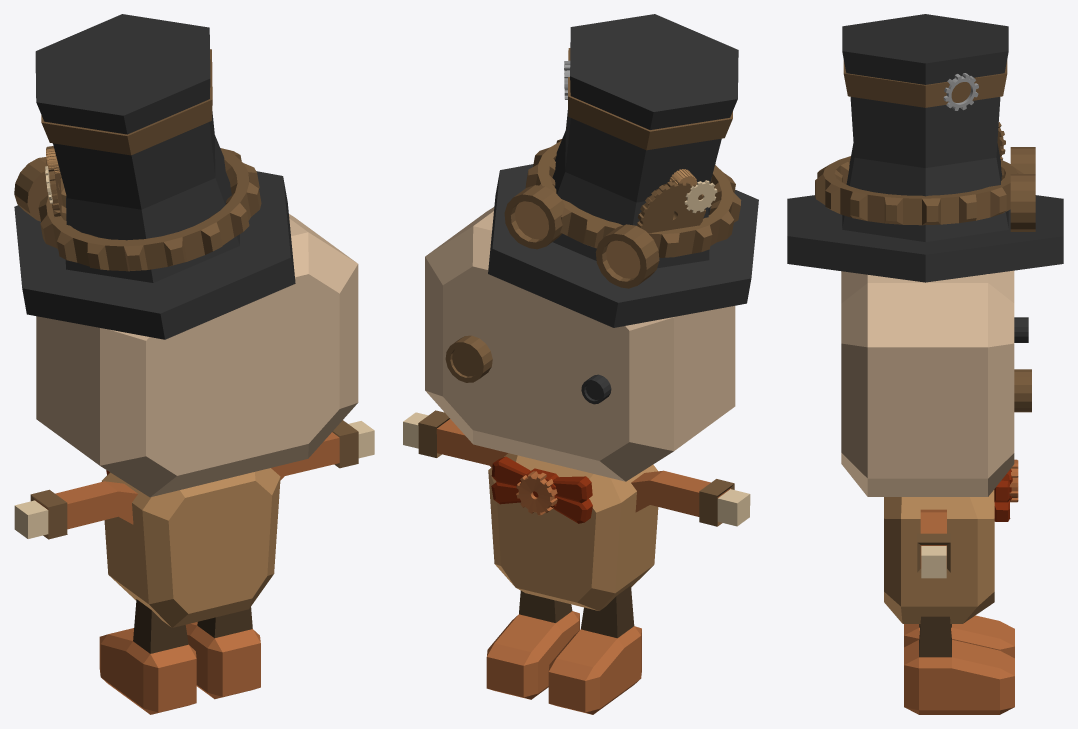
Rendered from lilCharlie_Mixamo_v3.fbx.
3 renders of one model, left to right at view 1: azimuth 30°, elevation 25°; view 2: azimuth 150°, elevation 25°; view 3: azimuth 270°, elevation 25°, orthographic. The views are drawn at different scales.
Visible parts, largest first — view 1: Body.003; view 2: Body.003; view 3: Body.003.
Part boxes in pixels (box(x1,y1,x2,y2)): Body.003: box(14, 14, 374, 714); Body.003: box(403, 14, 758, 714); Body.003: box(787, 14, 1063, 714).
Size of the model in its own units: 7.18 by 13.11 by 5.18.
